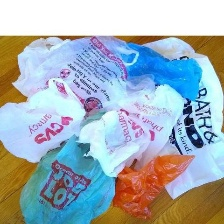plastic_bag: (138, 35, 224, 204), (9, 33, 135, 119), (12, 133, 120, 224), (0, 73, 88, 168), (98, 148, 197, 223), (107, 41, 211, 106), (122, 77, 184, 175), (74, 108, 154, 182)
